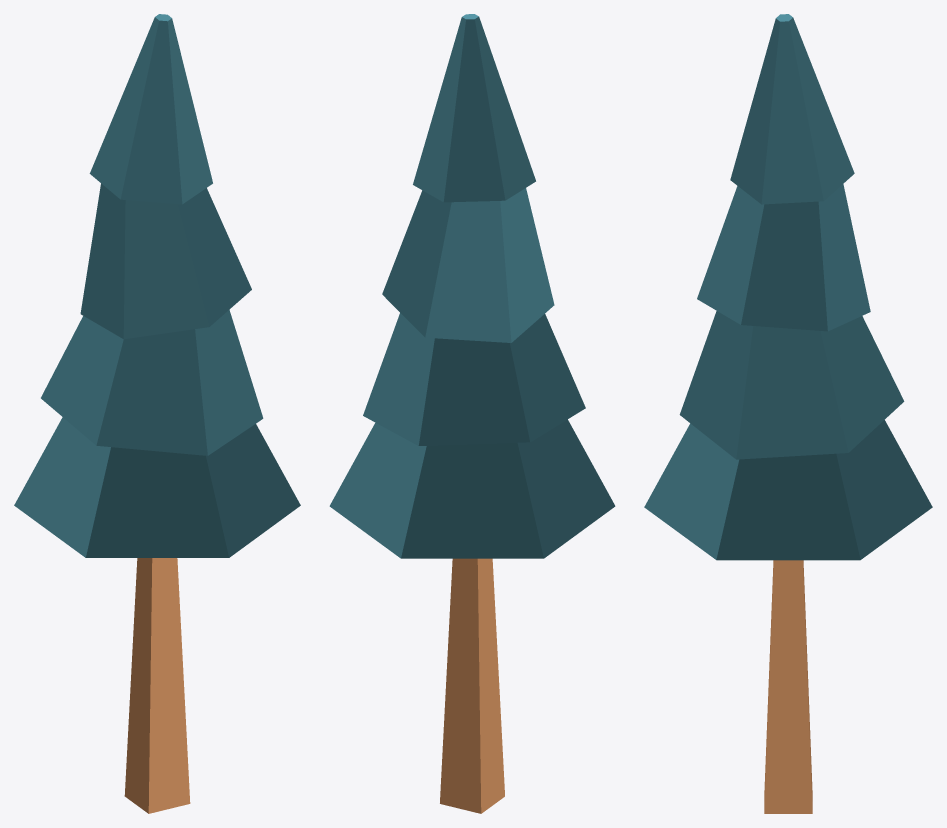
Rendered from tree_pine_short.obj.
3 renders of one model, left to right at view 1: azimuth 30°, elevation 25°; view 2: azimuth 150°, elevation 25°; view 3: azimuth 270°, elevation 25°, orthographic.
Parts seen in each view (by area): view 1: tree_pine_short; view 2: tree_pine_short; view 3: tree_pine_short.
Boxes of the visible parts, bbox=[...] form: tree_pine_short: bbox=[14, 14, 300, 813]; tree_pine_short: bbox=[329, 14, 615, 813]; tree_pine_short: bbox=[644, 14, 932, 813].
Size of the model in its own units: 4.8 by 16.72 by 5.55.
